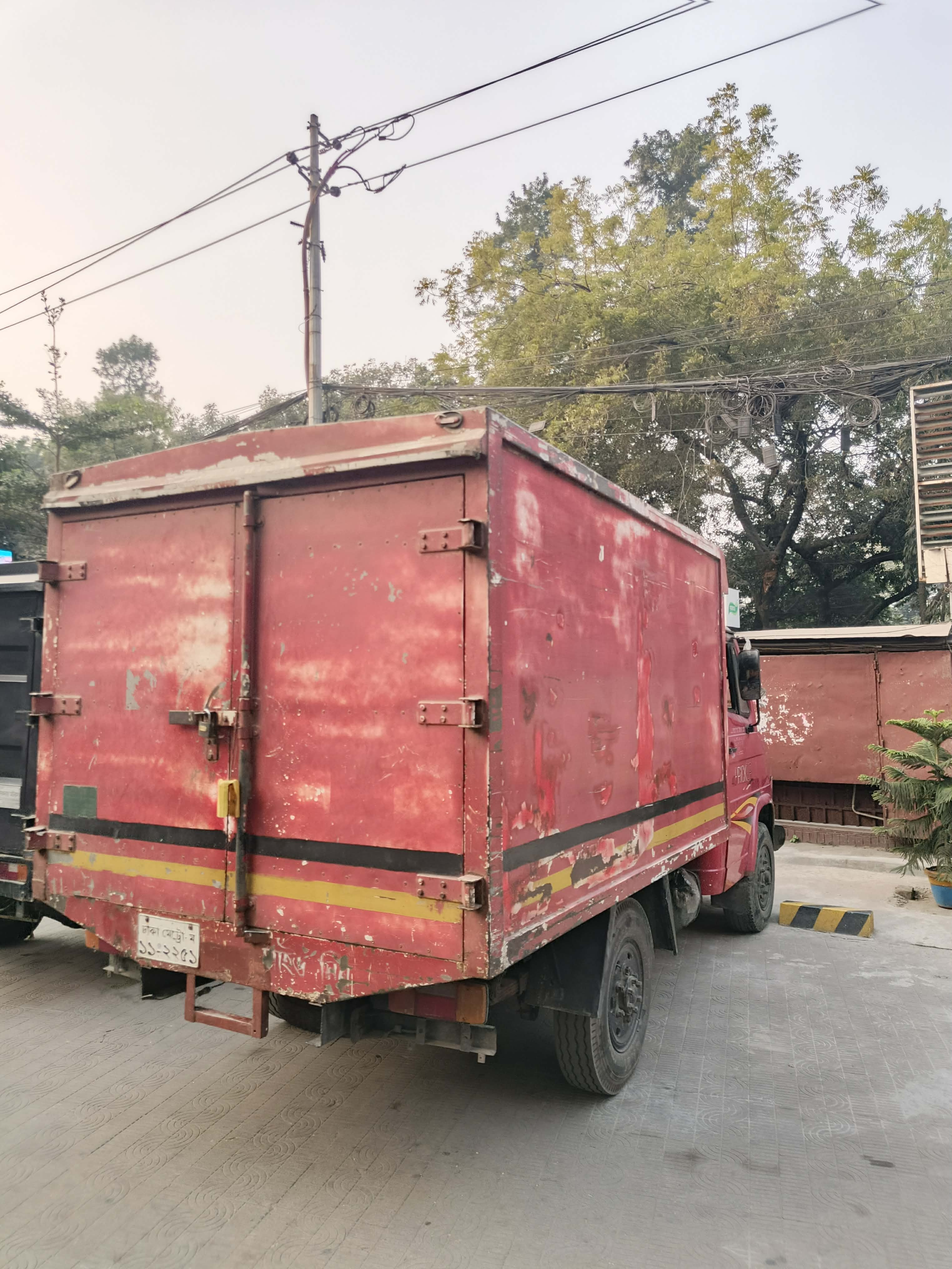Pickup: (37, 385, 935, 1159)
